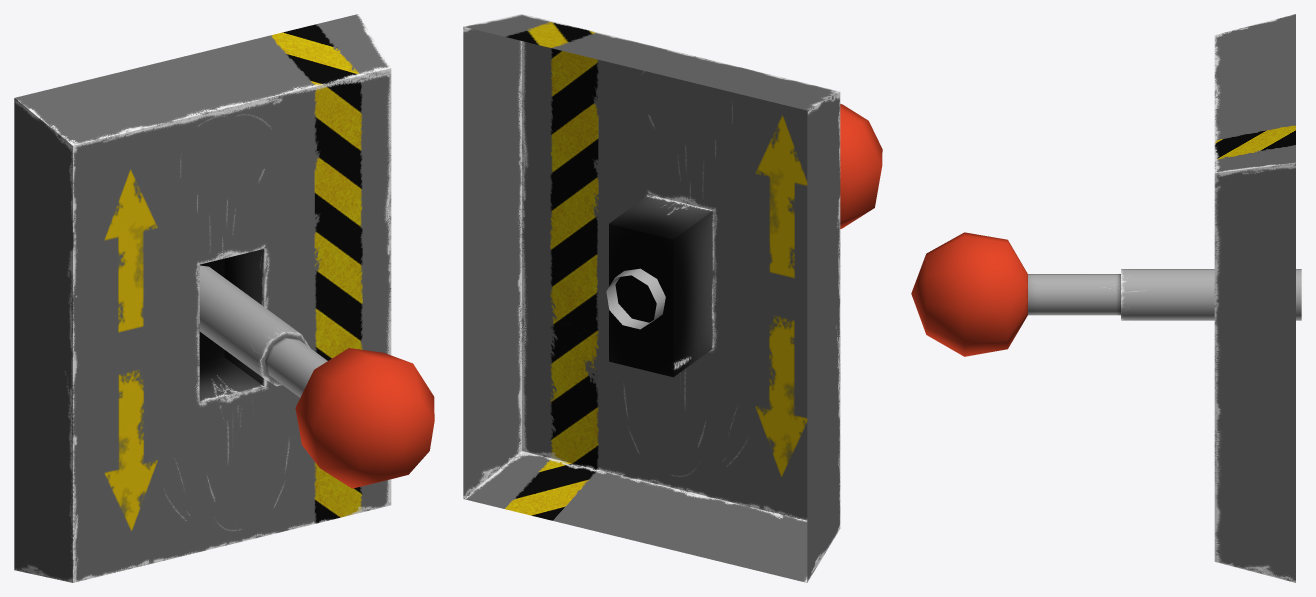
The model's file is Lever_04.FBX.
3 renders of one model, left to right at view 1: azimuth 30°, elevation 25°; view 2: azimuth 150°, elevation 25°; view 3: azimuth 270°, elevation 25°, orthographic. The views are drawn at different scales.
Parts seen in each view (by area): view 1: Lever_04, Lever_04_part; view 2: Lever_04, Lever_04_part; view 3: Lever_04, Lever_04_part.
Boxes of the visible parts, x1,y1,x2,y2 form: Lever_04: [14, 14, 391, 582]; Lever_04_part: [199, 265, 434, 488]; Lever_04: [463, 14, 840, 582]; Lever_04_part: [606, 104, 882, 329]; Lever_04: [1214, 14, 1295, 582]; Lever_04_part: [911, 232, 1301, 356].
Size of the model in its own units: 6.7 by 8.79 by 7.41.
1 material, 1 textured.
